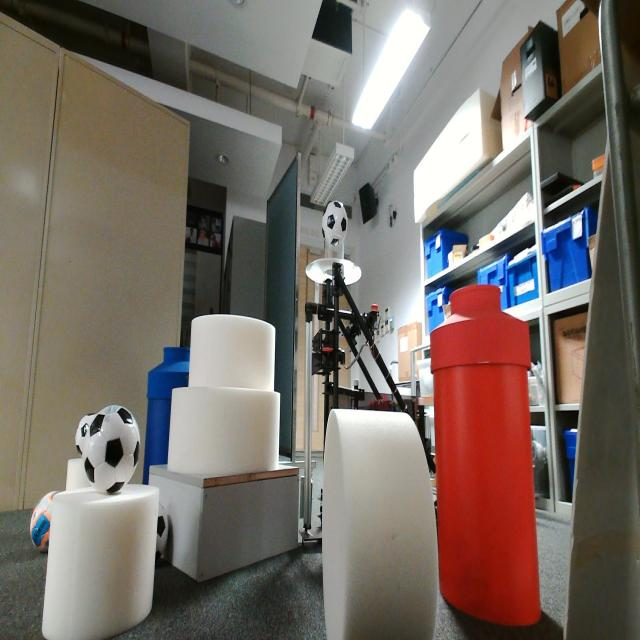ball: (85, 405, 140, 495), (30, 491, 50, 551), (323, 200, 347, 247), (154, 502, 170, 564), (77, 413, 94, 453)
